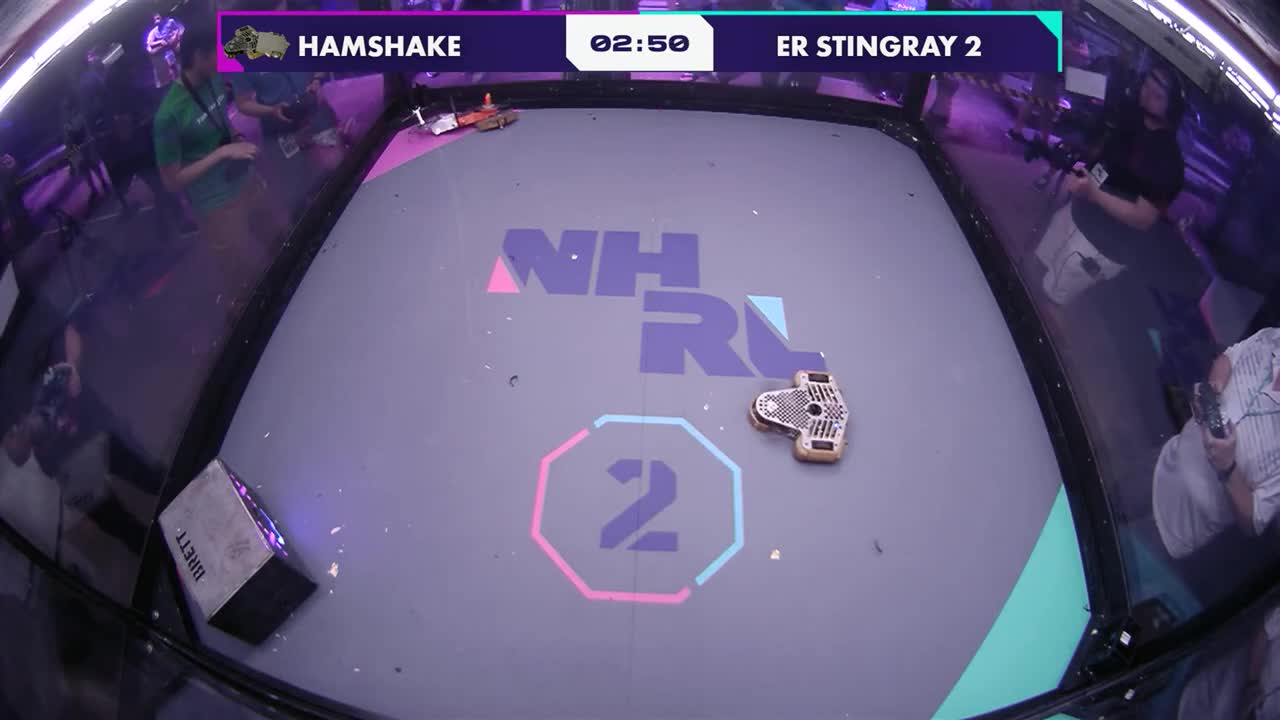combatbot: (750, 369, 851, 468), (413, 89, 520, 136)
housebot: (154, 457, 316, 647)
